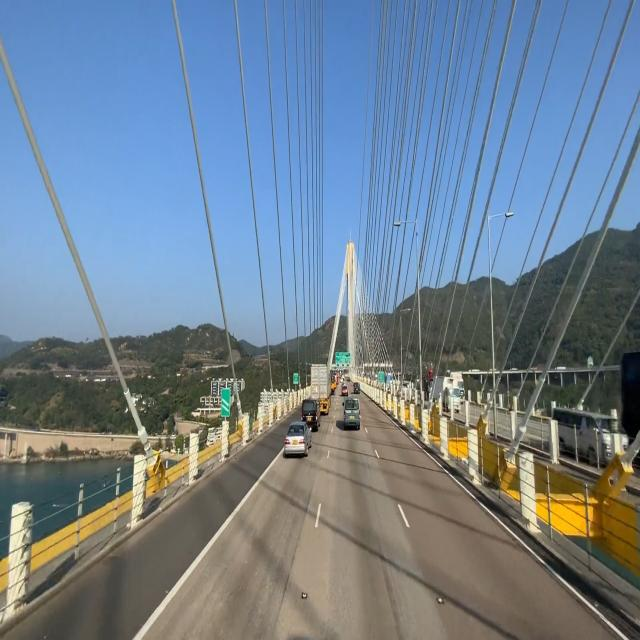Car: (286, 421, 314, 460), (341, 395, 365, 433), (303, 397, 323, 431)
